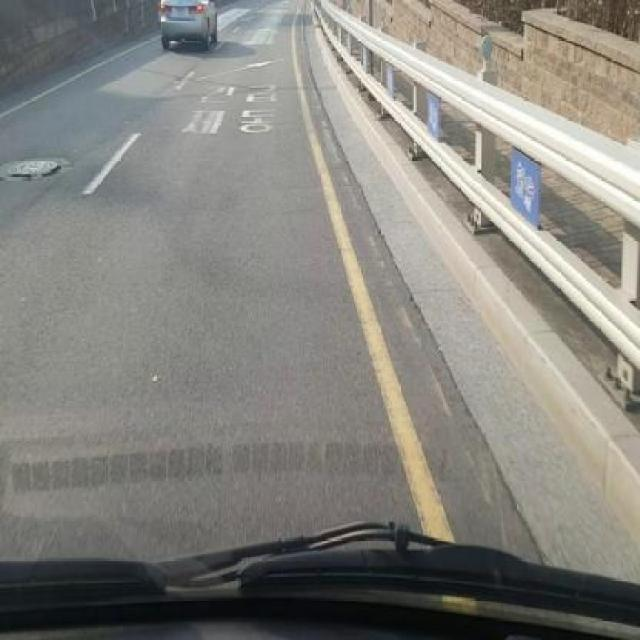Manhole: (7, 158, 62, 182)
